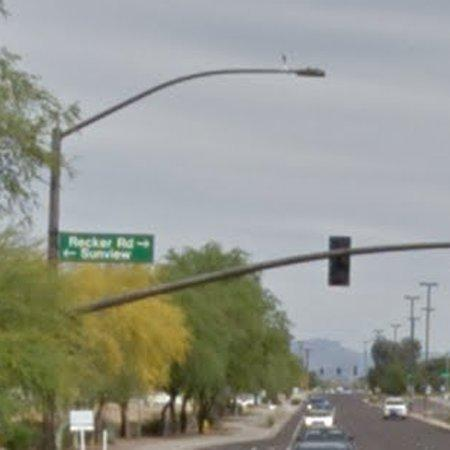traffic lights: (330, 237, 351, 251)
